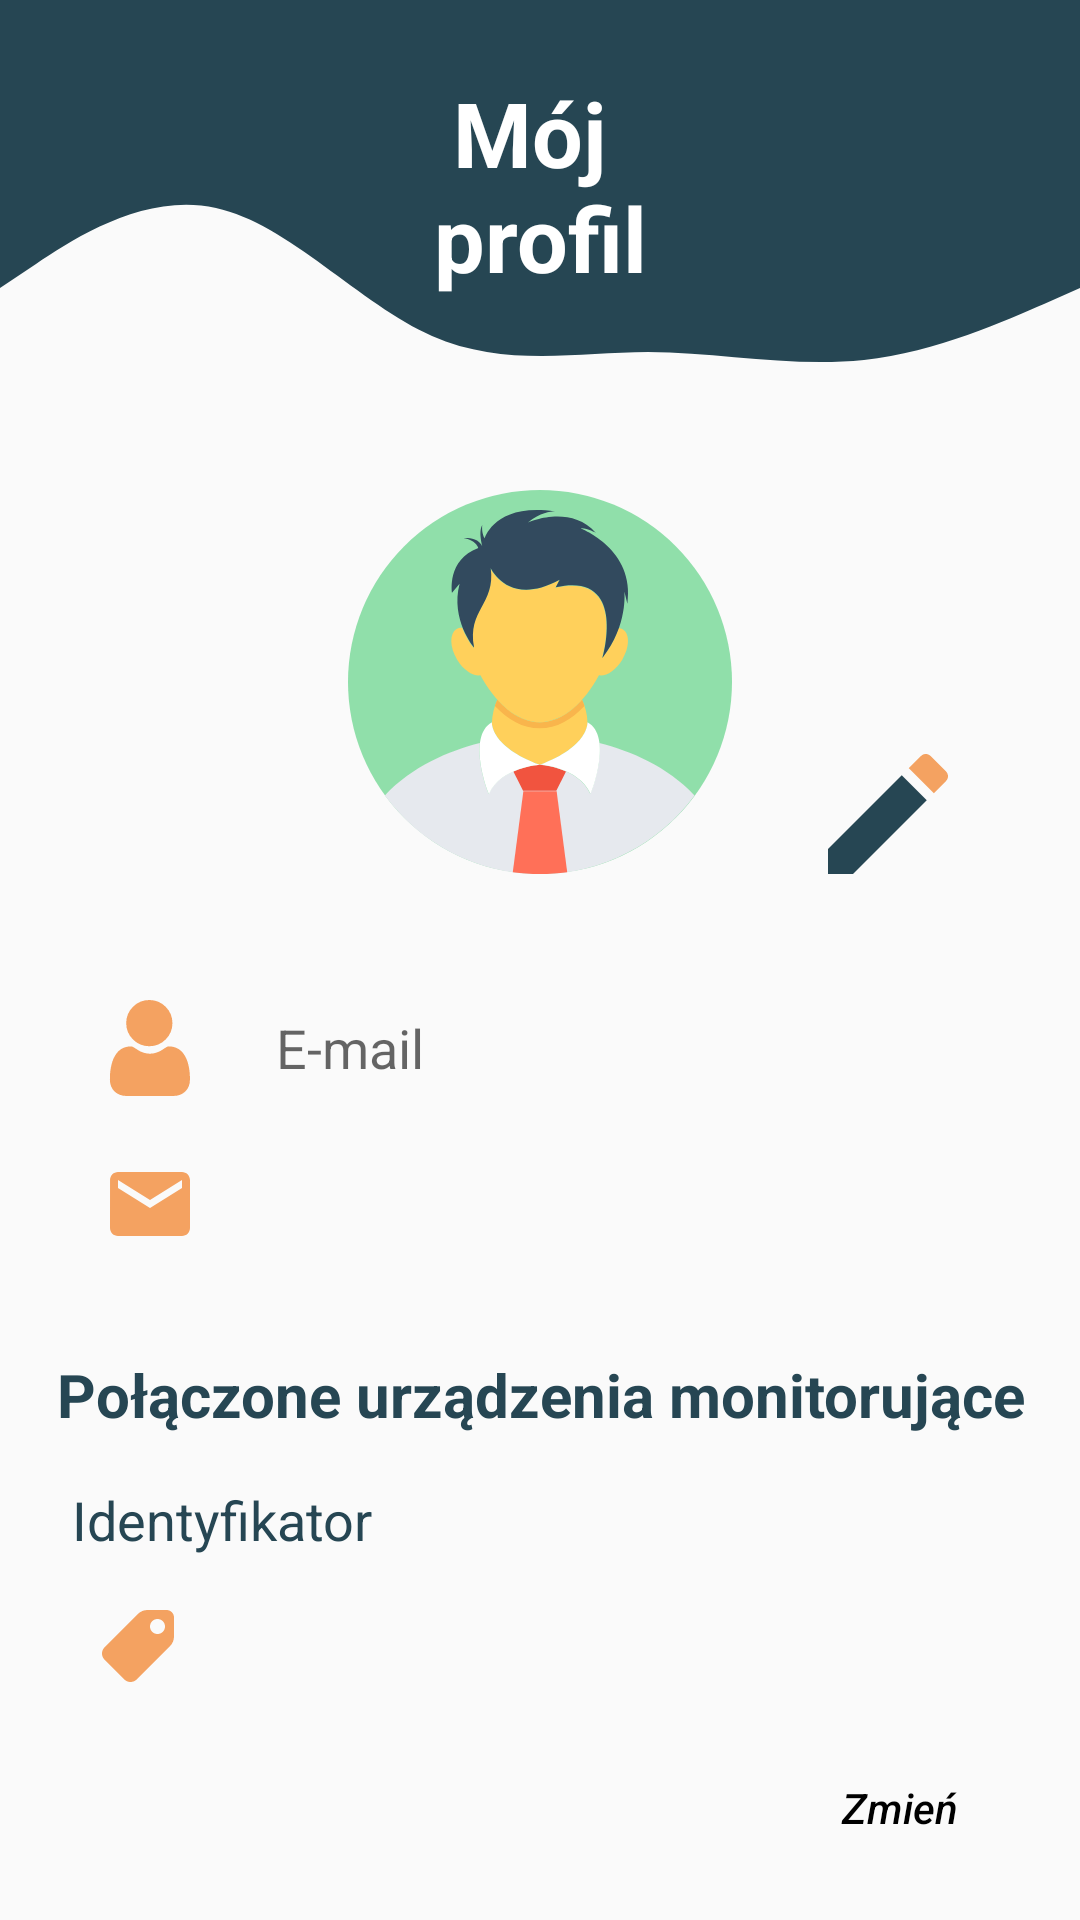

Icons on this 1080 × 1920 Android screen, each with its box as bbox=[x1, y1, x2, y2]:
edit: bbox=[828, 754, 948, 874]
price tag: bbox=[102, 1610, 174, 1682]
user: bbox=[110, 1000, 190, 1096]
